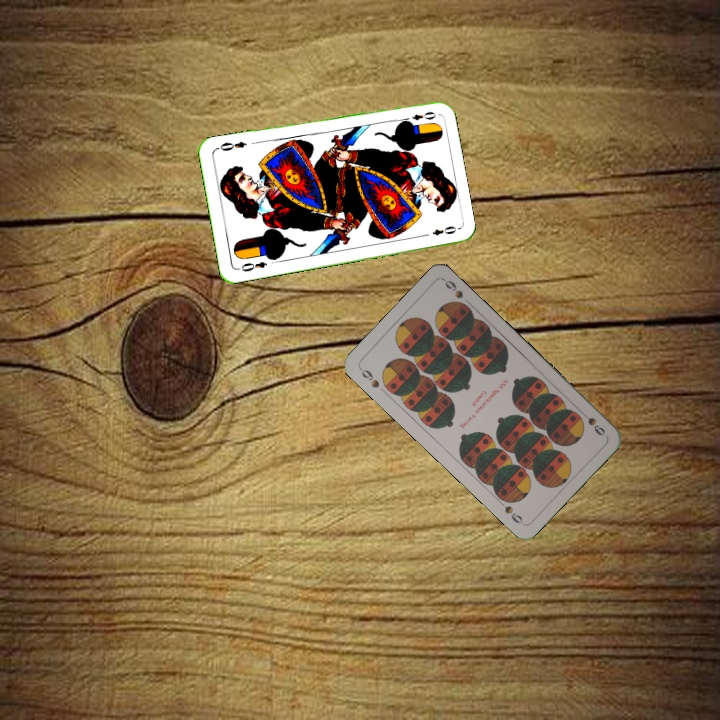EO: (234, 257, 270, 274), (408, 107, 438, 123)
S9: (576, 406, 608, 438), (355, 364, 382, 390)
